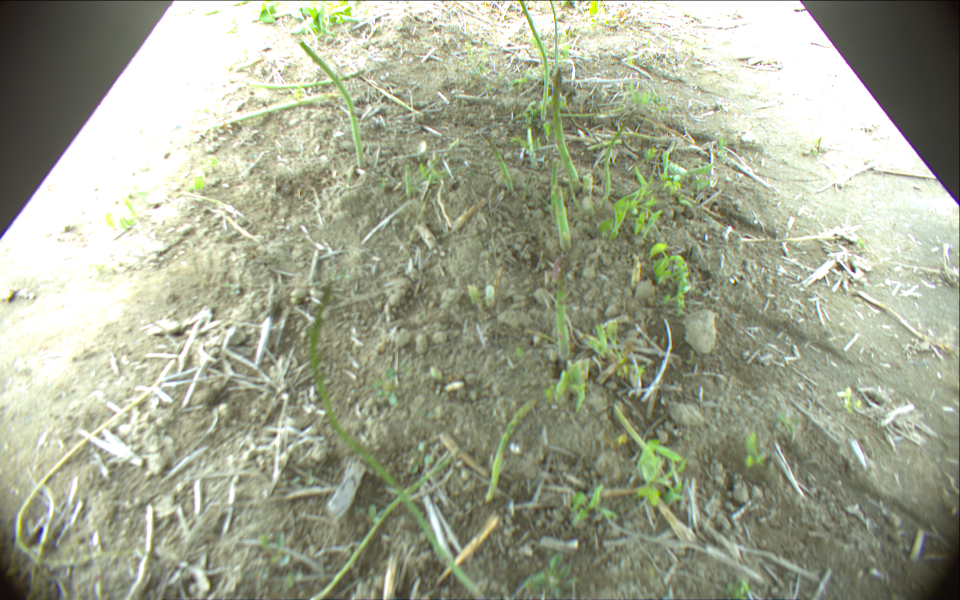aspa: (307, 283, 488, 600), (311, 451, 453, 600), (299, 37, 368, 167), (194, 93, 347, 135), (485, 396, 538, 501), (519, 1, 549, 121), (549, 69, 579, 185), (600, 112, 631, 205), (243, 66, 363, 87), (476, 129, 514, 190), (554, 270, 571, 363), (552, 186, 571, 252), (548, 1, 562, 69), (526, 126, 539, 169), (402, 161, 414, 197), (465, 280, 480, 306), (551, 257, 563, 285), (485, 284, 495, 308), (550, 158, 558, 185), (581, 172, 592, 191)
